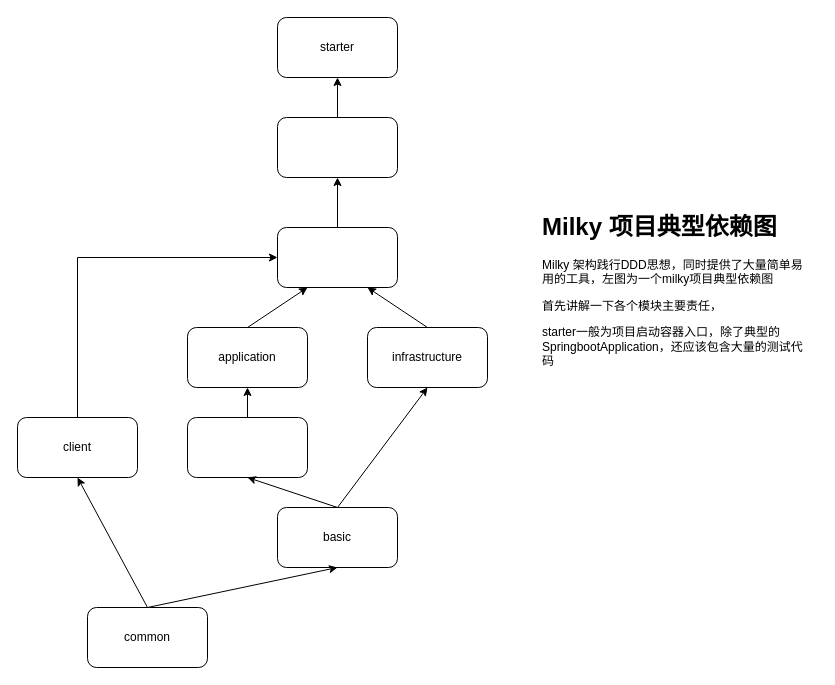
The diagram is 835 pixels wide and 685 high, and some of its shapes have lost their labels. Each missing label, with the box of its shape:
adapter: (276, 226, 398, 288)
ajc: (276, 116, 398, 178)
domain: (186, 416, 308, 478)
